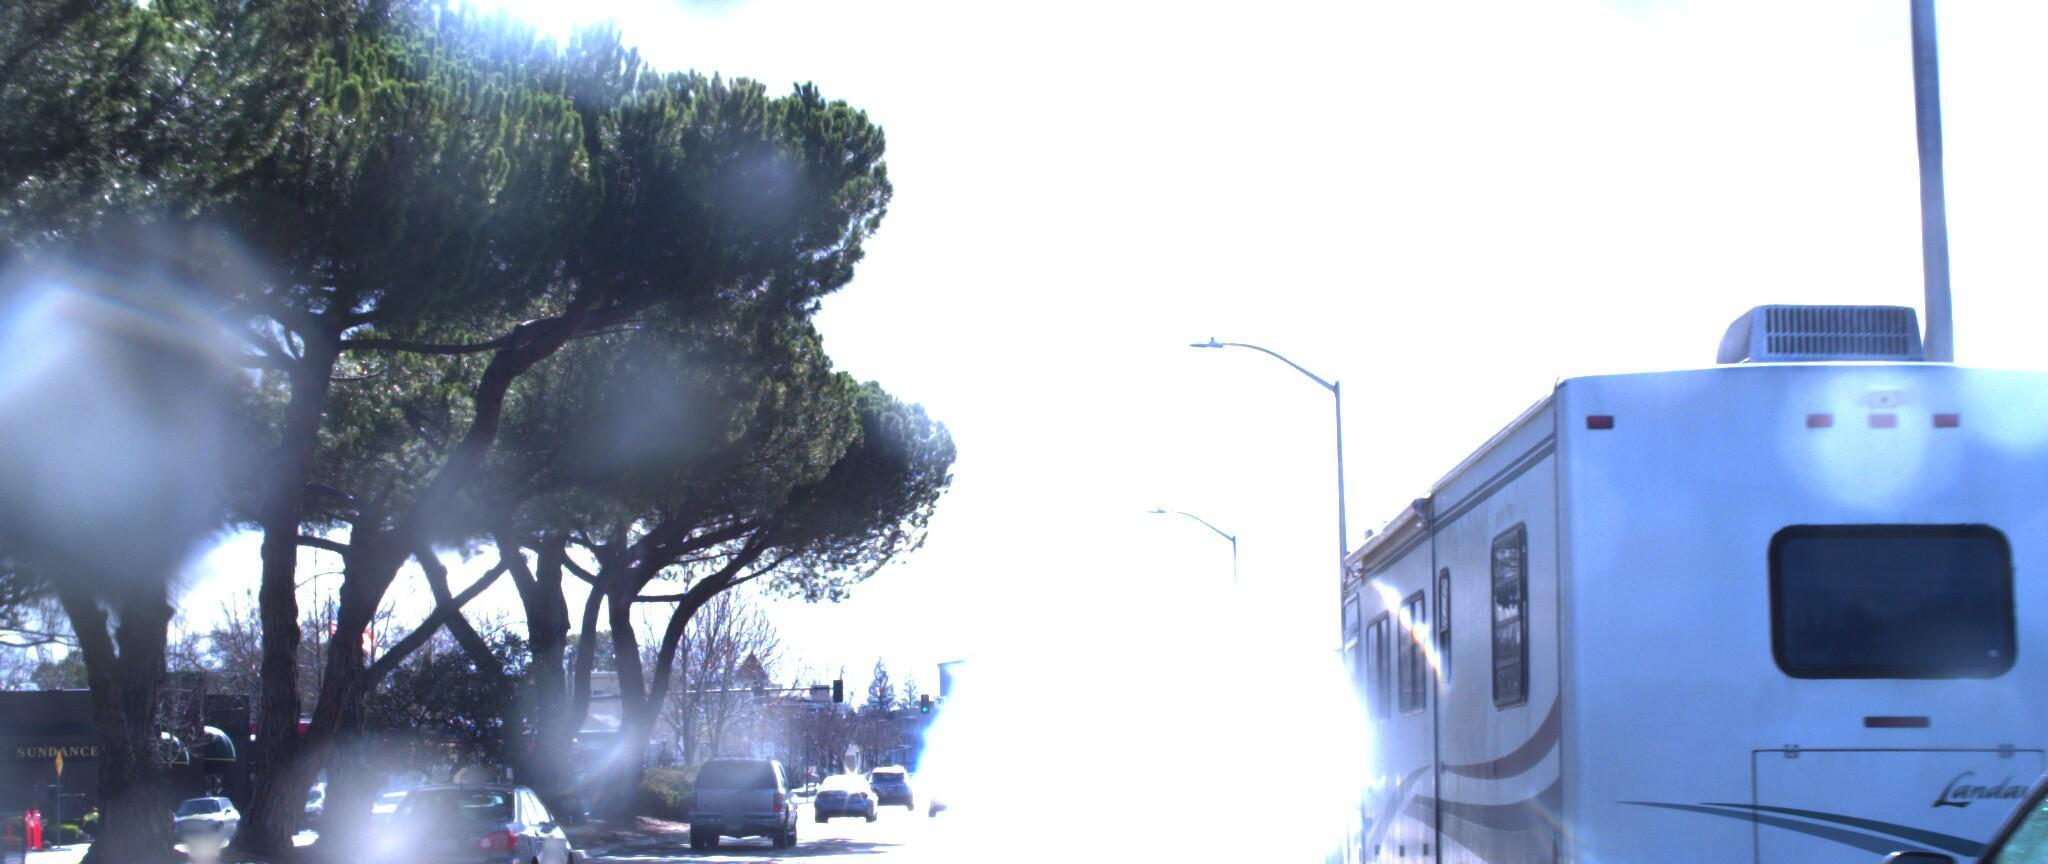car: (1782, 574, 2048, 864), (341, 764, 596, 864), (1292, 767, 1533, 864), (1245, 773, 1422, 864), (1207, 767, 1354, 864), (679, 753, 803, 841), (0, 769, 82, 864)
other_vehicle: (1306, 258, 2048, 864), (1168, 647, 1381, 864), (1145, 670, 1311, 847)
